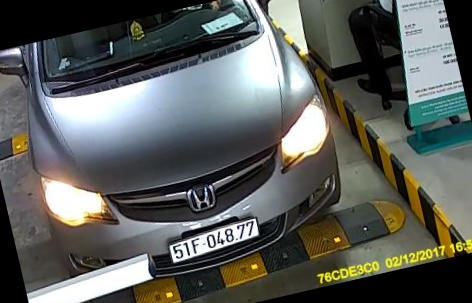plate: (158, 215, 270, 267)
